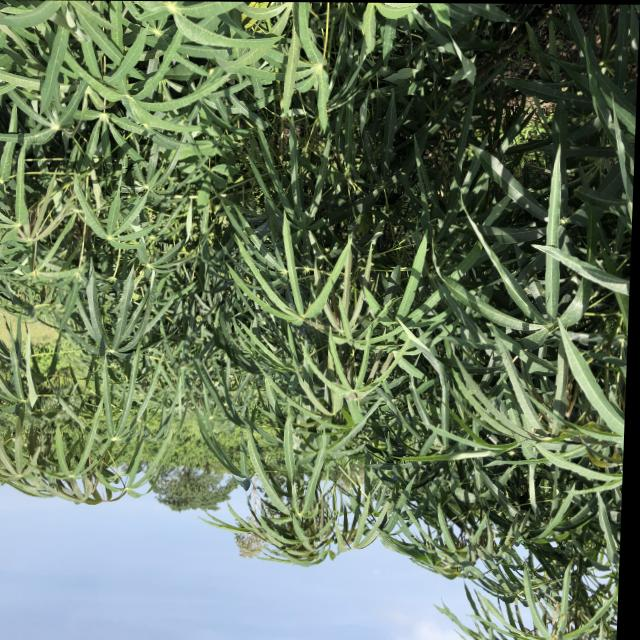Mosca: (40, 40, 54, 63), (202, 62, 221, 78), (363, 254, 379, 272), (185, 80, 203, 95), (166, 188, 181, 202)
